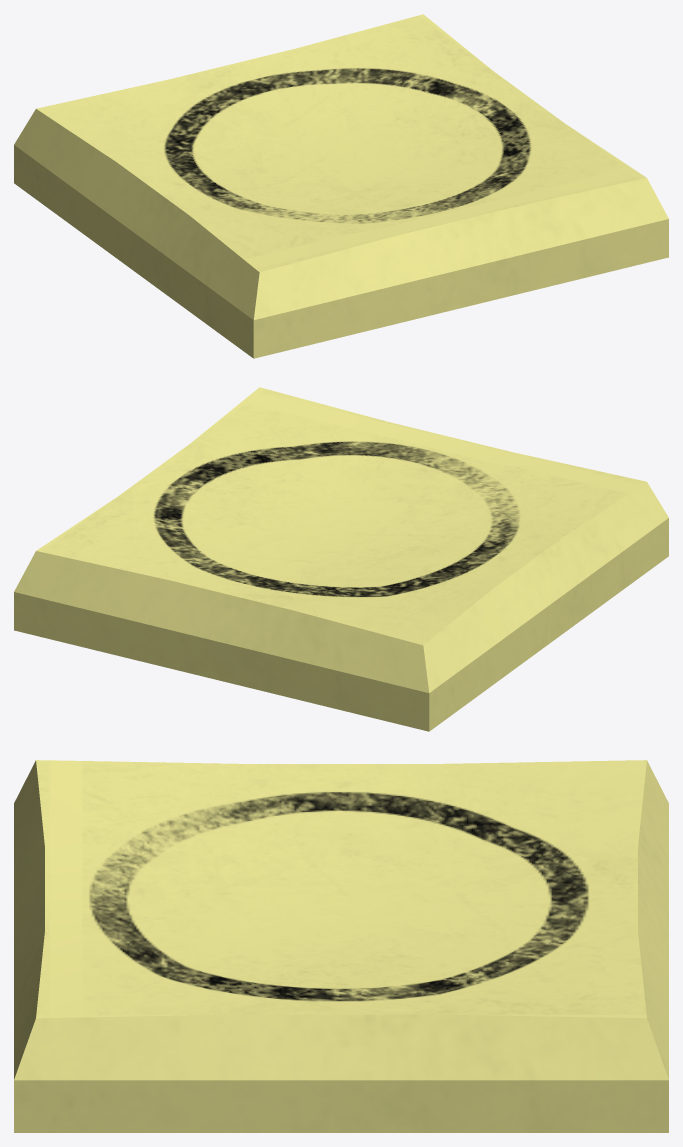
The model's file is SM_ControlPanelButton2.FBX.
3 views of the same model, one above another, from view 1: azimuth 30°, elevation 25°; view 2: azimuth 150°, elevation 25°; view 3: azimuth 270°, elevation 25° (orthographic). The views are drawn at different scales.
Visible parts, largest first — view 1: Button_002; view 2: Button_002; view 3: Button_002.
Boxes of the visible parts, left/top/right/bottom form: Button_002: left=14, top=14, right=668, bottom=358; Button_002: left=14, top=387, right=668, bottom=731; Button_002: left=14, top=760, right=668, bottom=1132.
Bounding box in the file's own units: 11.28 × 2 × 11.28.
